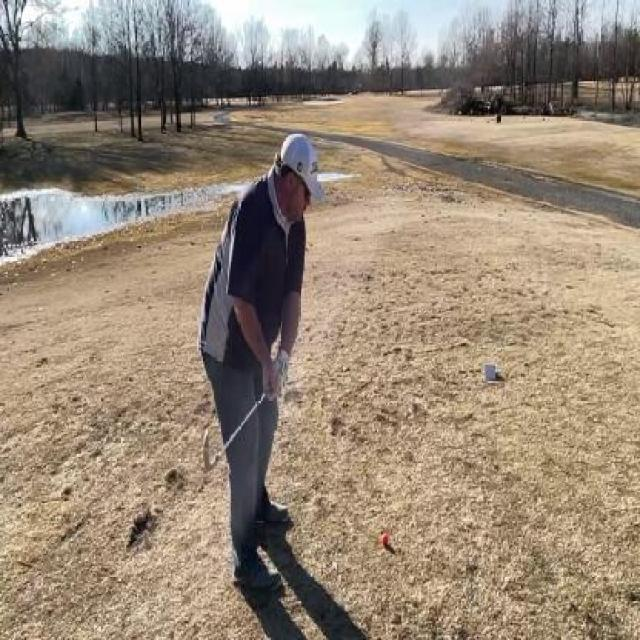club head: (200, 427, 220, 478)
